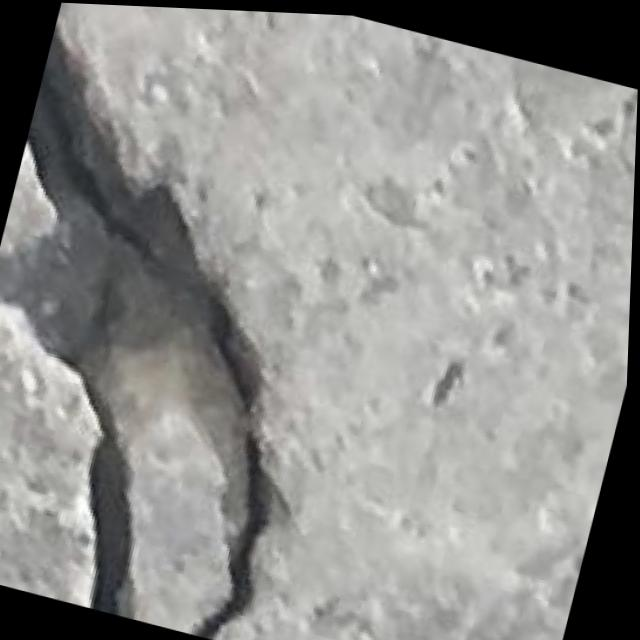Crack: (0, 14, 386, 640)
